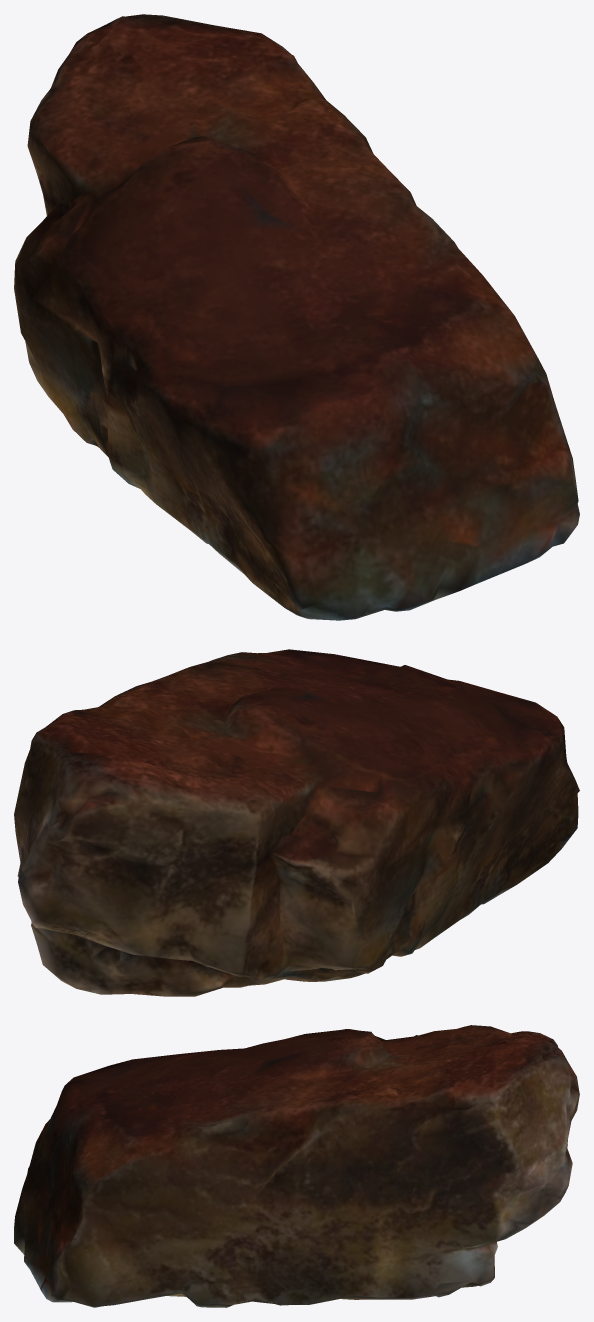
Rendered from rock.glb.
3 renders of one model, top to bottom at view 1: azimuth 30°, elevation 25°; view 2: azimuth 150°, elevation 25°; view 3: azimuth 270°, elevation 25°, orthographic. The views are drawn at different scales.
Visible parts, largest first — view 1: rock_07; view 2: rock_07; view 3: rock_07.
Boxes of the visible parts, x1,y1,x2,y2 form: rock_07: (14, 14, 579, 620); rock_07: (14, 649, 579, 996); rock_07: (14, 1025, 579, 1307).
Bounding box in the file's own units: 0.1681 × 0.1437 × 0.3199.
Materials: 1 (1 with a texture image).
